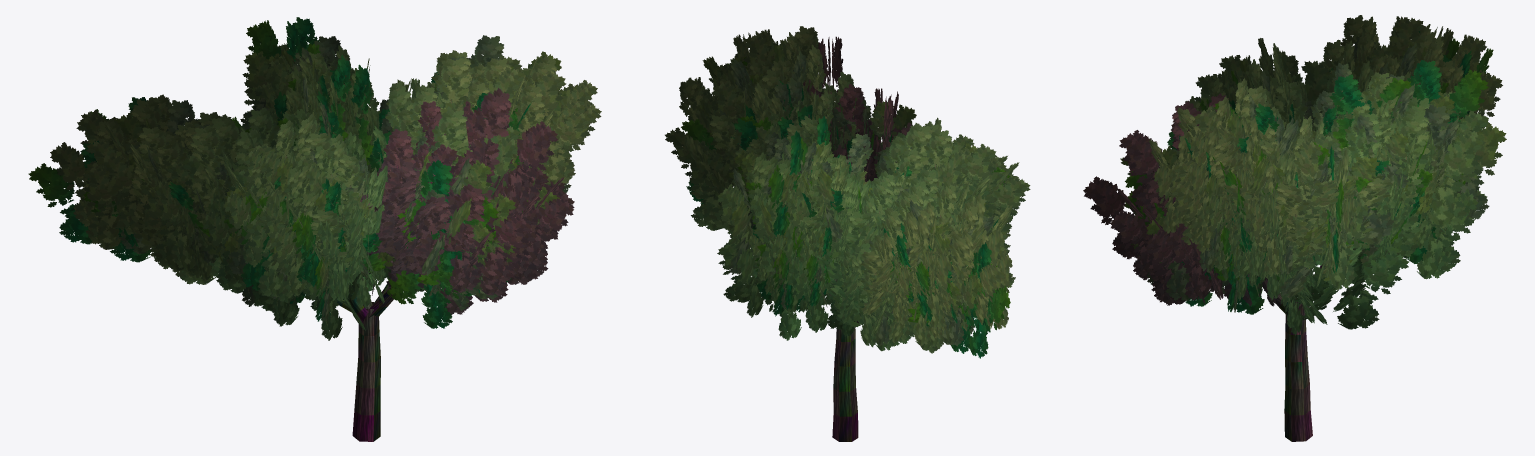
File: nat_oak_a_LOD1.glb
The picture shows the model from 3 angles, left to right: view 1: azimuth 30°, elevation 25°; view 2: azimuth 150°, elevation 25°; view 3: azimuth 270°, elevation 25°; orthographic projection. The views are drawn at different scales.
Visible parts, largest first — view 1: nat_oak_a_LOD1; view 2: nat_oak_a_LOD1; view 3: nat_oak_a_LOD1.
Boxes of the visible parts, x1,y1,x2,y2 form: nat_oak_a_LOD1: (28,17,601,441); nat_oak_a_LOD1: (665,26,1030,441); nat_oak_a_LOD1: (1083,15,1506,441).
Bounding box in the file's own units: 11.21 × 9.04 × 9.23.
Materials: 2 (2 with a texture image).
